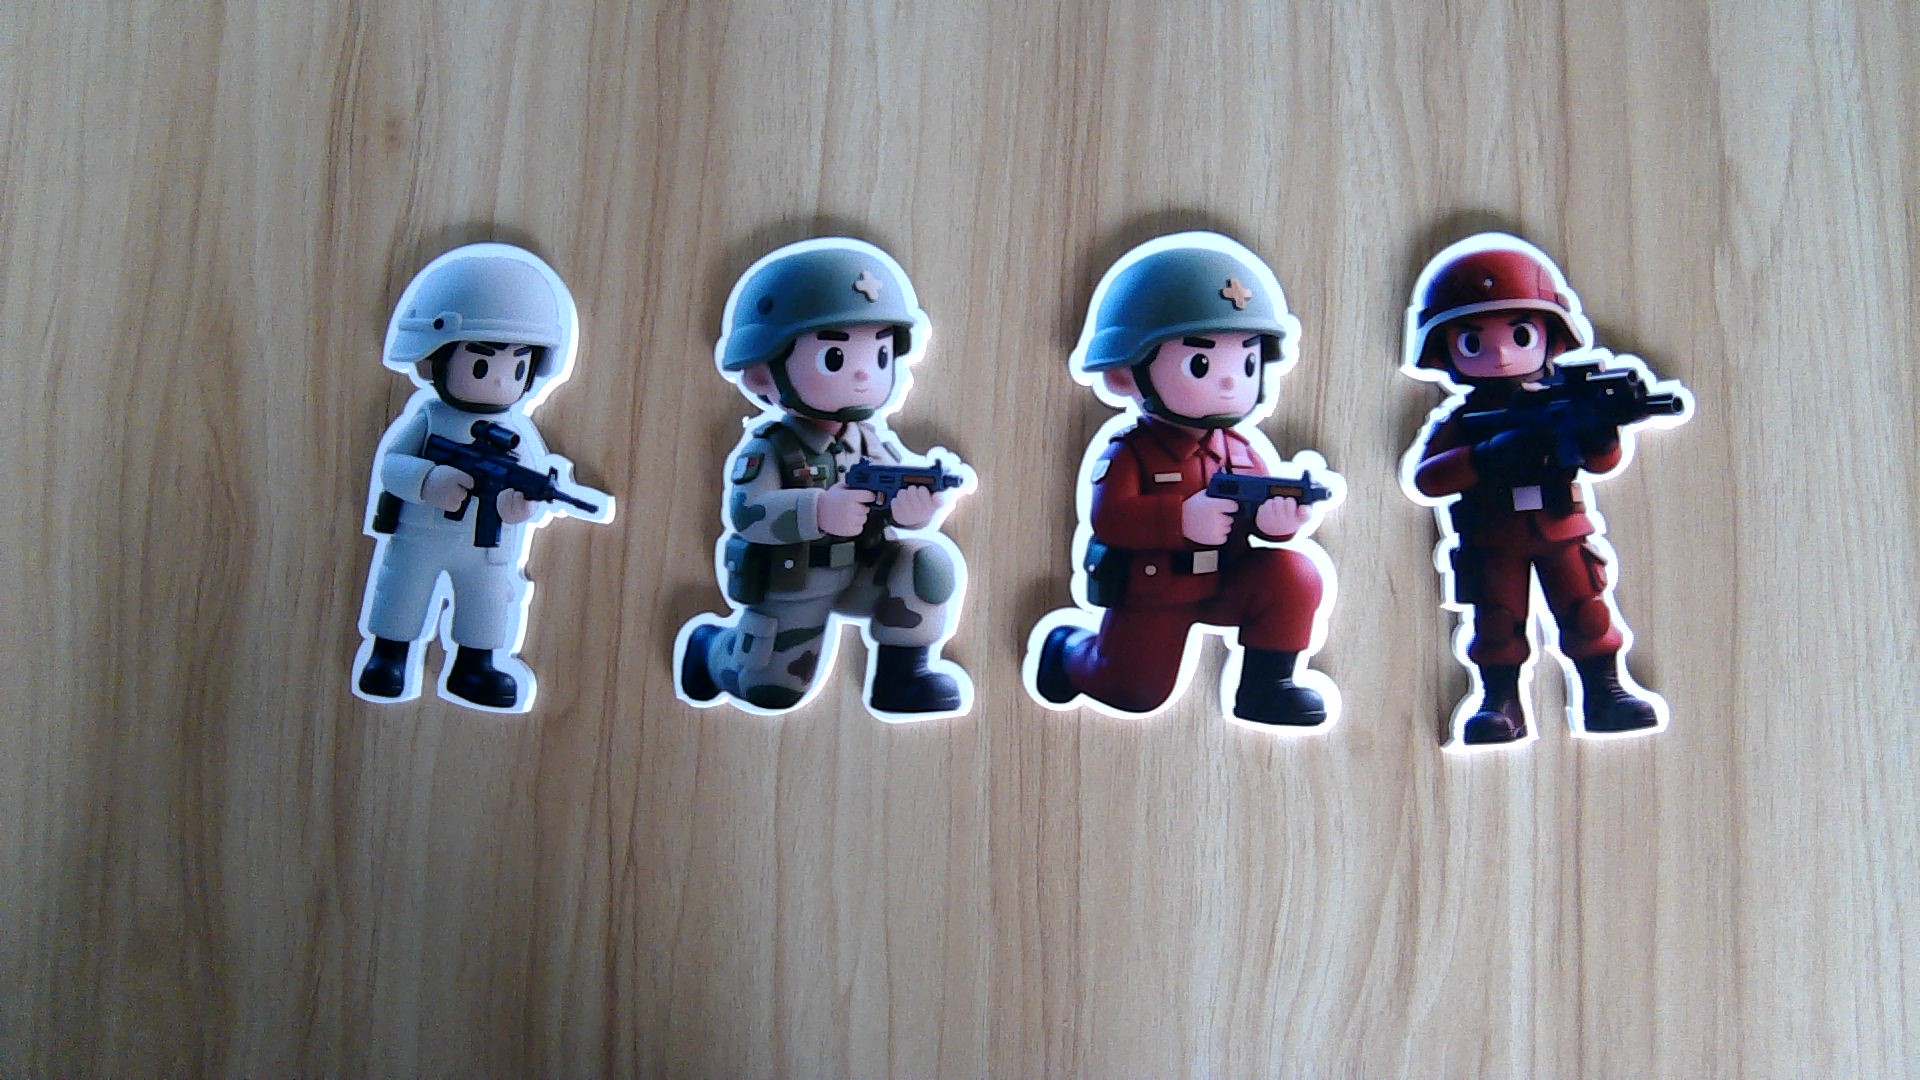人质: (335, 405, 615, 727)
友军: (665, 414, 992, 729)
敌人1: (1389, 384, 1700, 762), (1019, 423, 1349, 738)
